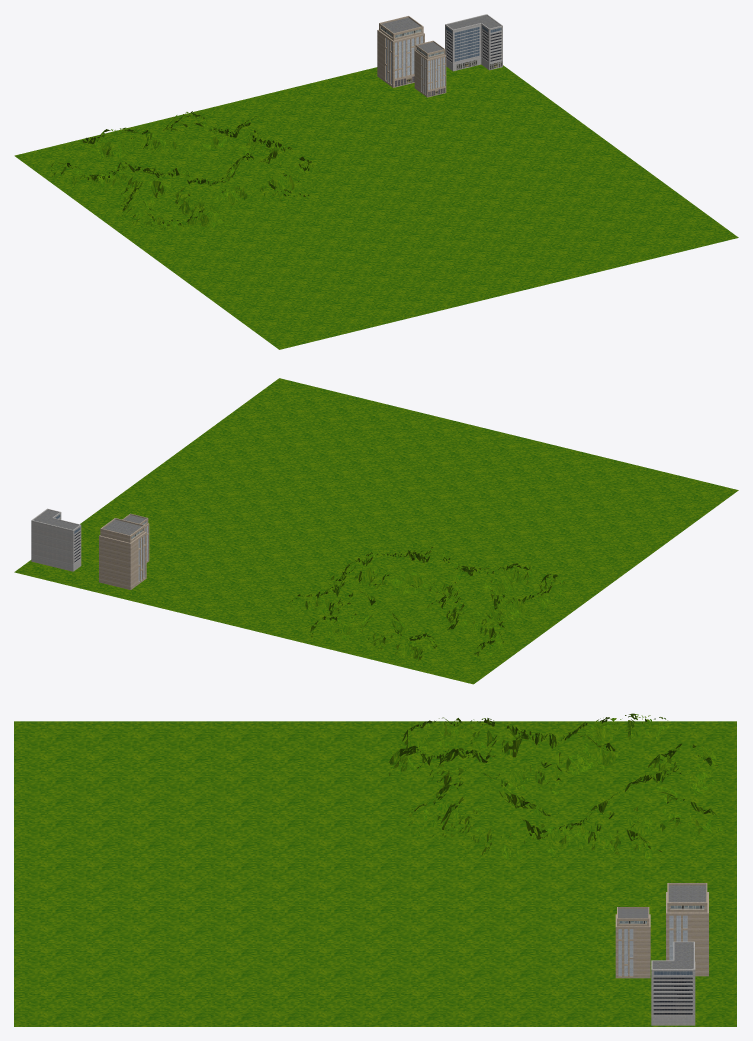
The model's file is terrain.obj.
The picture shows the model from 3 angles, top to bottom: view 1: azimuth 30°, elevation 25°; view 2: azimuth 150°, elevation 25°; view 3: azimuth 270°, elevation 25°; orthographic projection. The views are drawn at different scales.
Visible parts, largest first — view 1: Plane001, WS_free_terrain_001, Building10, Building11, Building11.001; view 2: Plane001, WS_free_terrain_001, Building11, Building10; view 3: Plane001, WS_free_terrain_001, Building10, Building11, Building11.001.
Boxes of the visible parts, x1,y1,x2,y2 form: Plane001: (14,64,738,349); WS_free_terrain_001: (49,111,322,232); Building10: (445,14,502,71); Building11: (377,16,424,87); Building11.001: (414,40,446,97); Plane001: (14,378,738,684); WS_free_terrain_001: (288,547,567,662); Building11: (99,518,146,589); Building10: (31,508,81,571); Plane001: (14,721,736,1026); WS_free_terrain_001: (389,713,722,861); Building10: (651,941,695,1025); Building11: (666,883,708,976); Building11.001: (615,907,650,978).
Size of the model in its own units: 15.95 by 1.8 by 15.99.
Materials: 4 (4 with a texture image).
